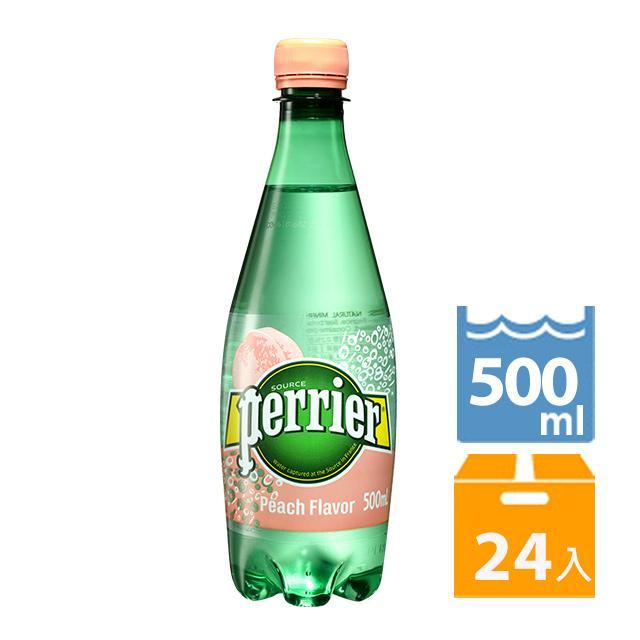bottle: (210, 33, 409, 615)
